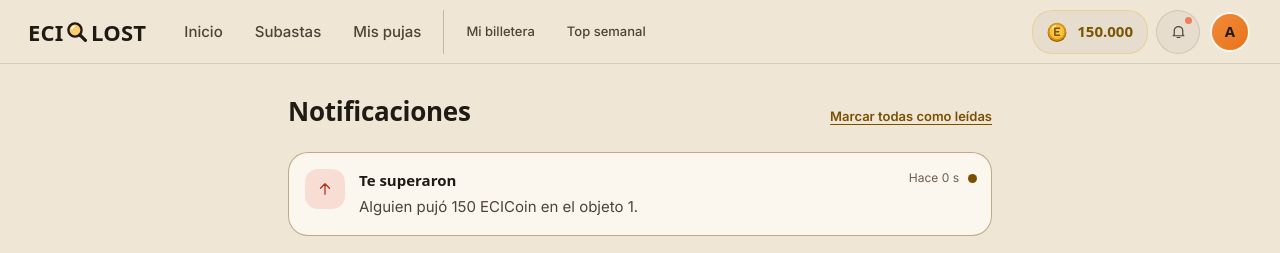
Notificaciones › muestra la bandeja real, no avisos de ejemplo, y permite marcarla como leida
Expected: the text "Te superaron" is shown, top-left (358, 169), bottom-right (456, 190)
Expected: the link named "notificaciones, 1 sin leer" is shown, top-left (1156, 10), bottom-right (1200, 54)
Click the button "Marcar todas como leídas".
click(911, 116)  # box top-left (830, 94), bottom-right (992, 138)
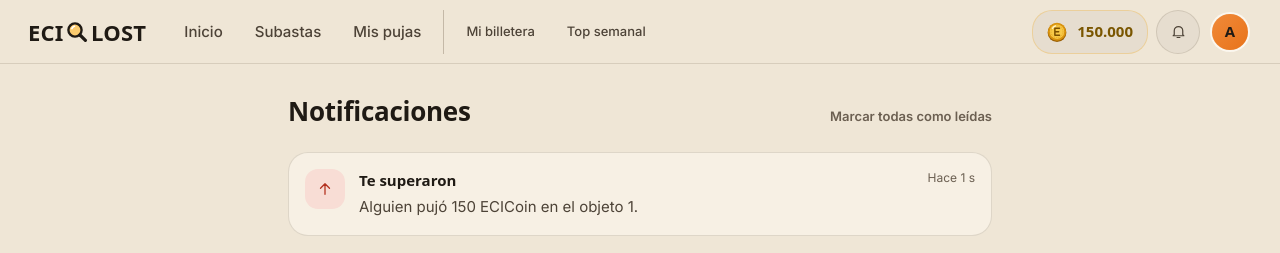
Expected: the link named "Notificaciones" is shown, top-left (1156, 10), bottom-right (1200, 54)
Result: the button "Marcar todas como leídas" is disabled at top-left (830, 94), bottom-right (992, 138)
